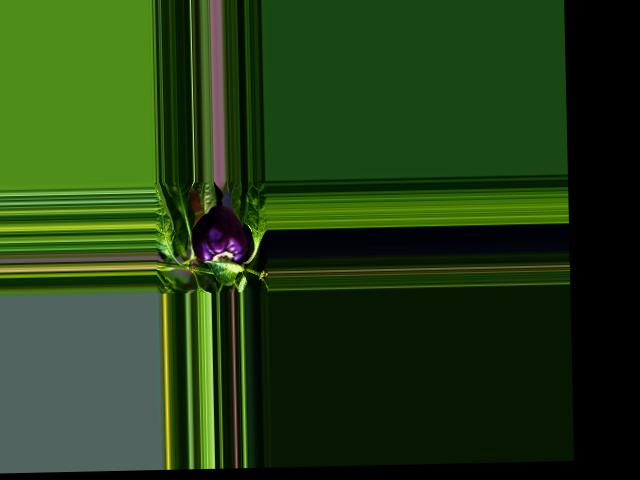bell_pepper: (189, 202, 247, 270)
